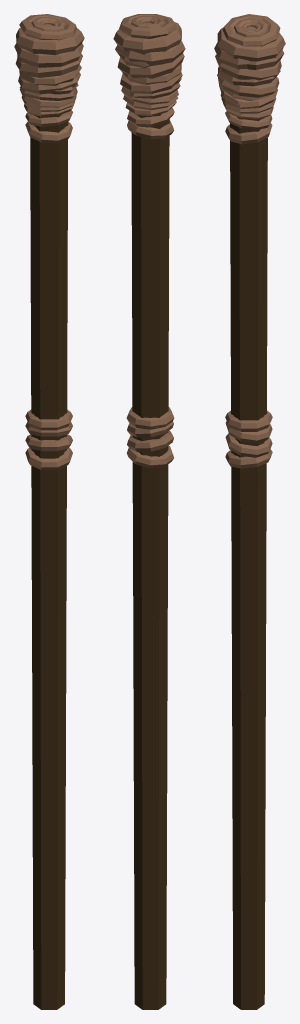
Rendered from Torch_002.fbx.
3 views of the same model, side by side, from view 1: azimuth 90°, elevation 25°; view 2: azimuth 150°, elevation 25°; view 3: azimuth 330°, elevation 25° (orthographic).
Parts seen in each view (by area): view 1: torch_002; view 2: torch_002; view 3: torch_002.
Part boxes in pixels (x1,y1,x2,y2): torch_002: (14,14,84,1009); torch_002: (113,14,185,1009); torch_002: (214,14,285,1009).
Bounding box in the file's own units: 8.89 × 137 × 8.9.
